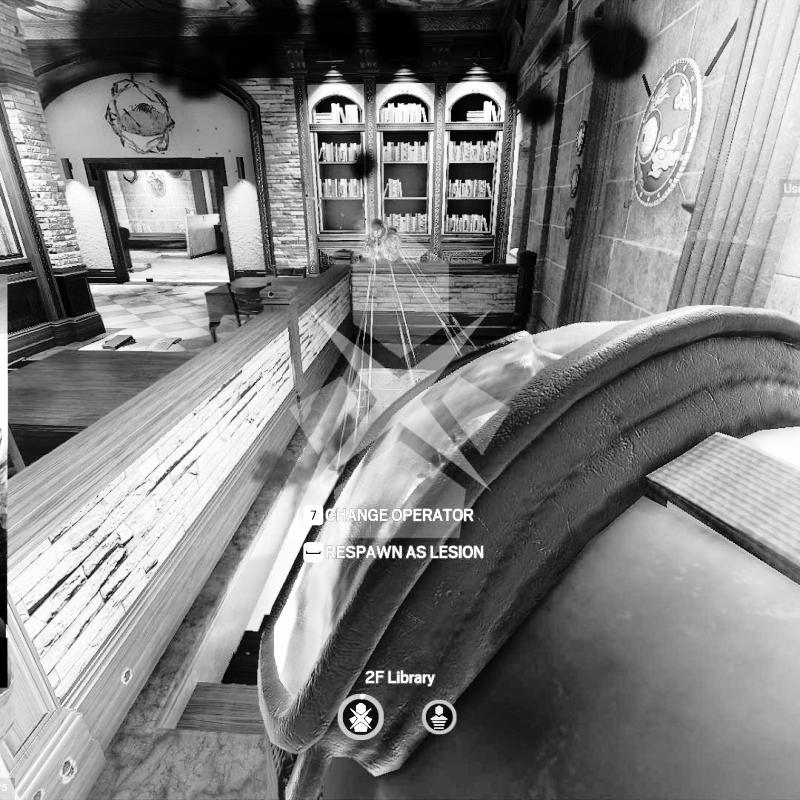Character: (362, 217, 403, 266)
Head: (371, 218, 386, 238)
